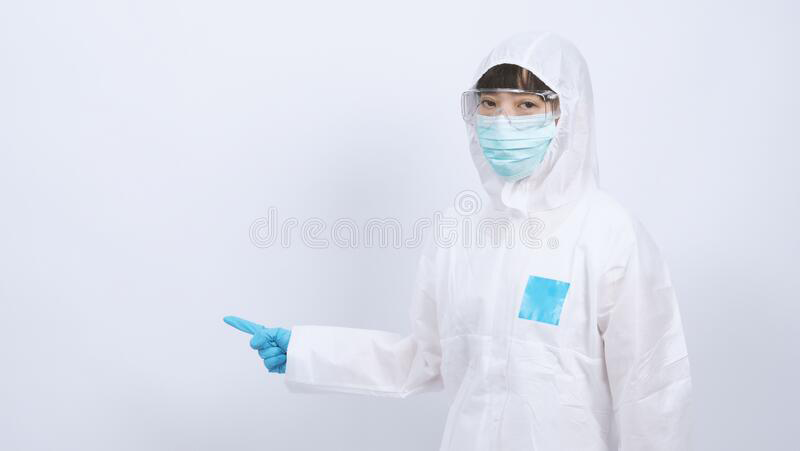Coverall: (290, 32, 695, 444)
Gloves: (224, 316, 288, 374)
Goggles: (455, 85, 563, 132)
with_mask: (469, 102, 563, 179)
